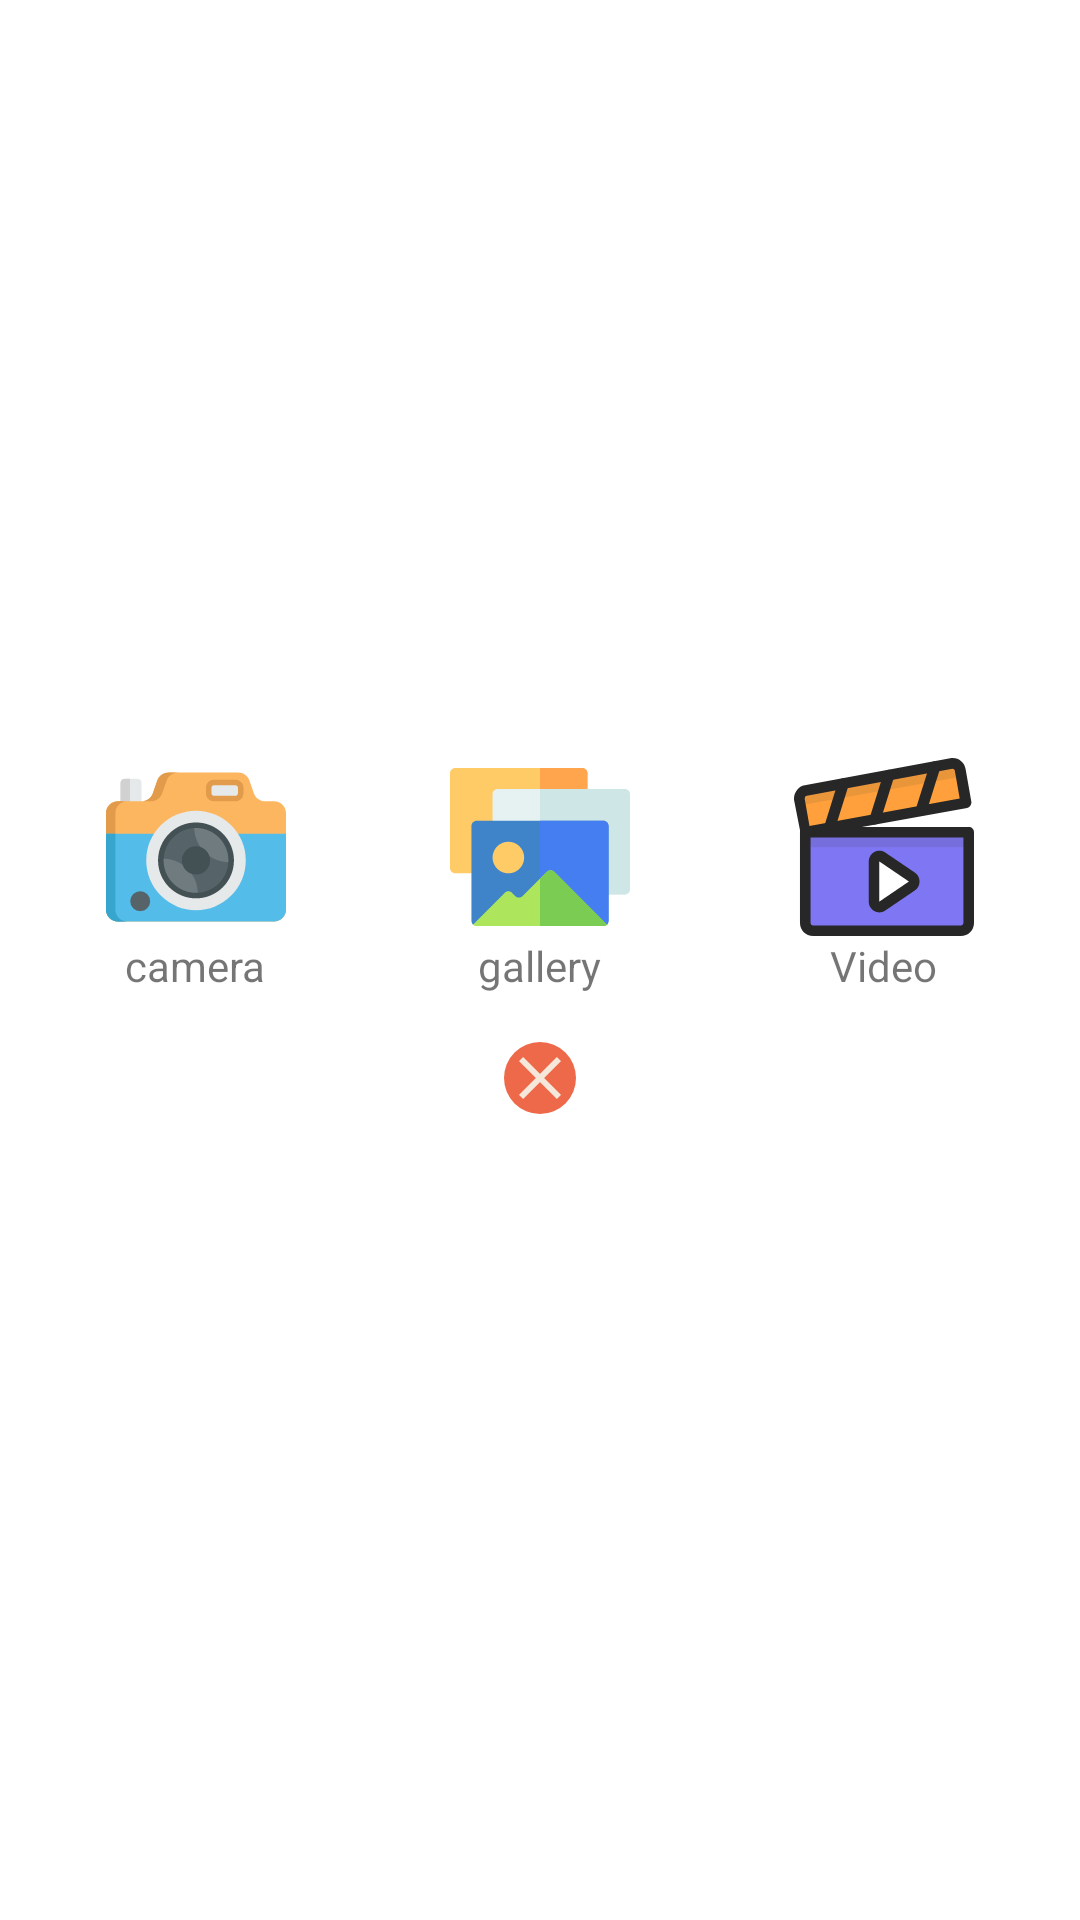

Named icons in this screenshot (1080x1920) and their centers, (x=x, y=y):
close: (x=540, y=1078)
